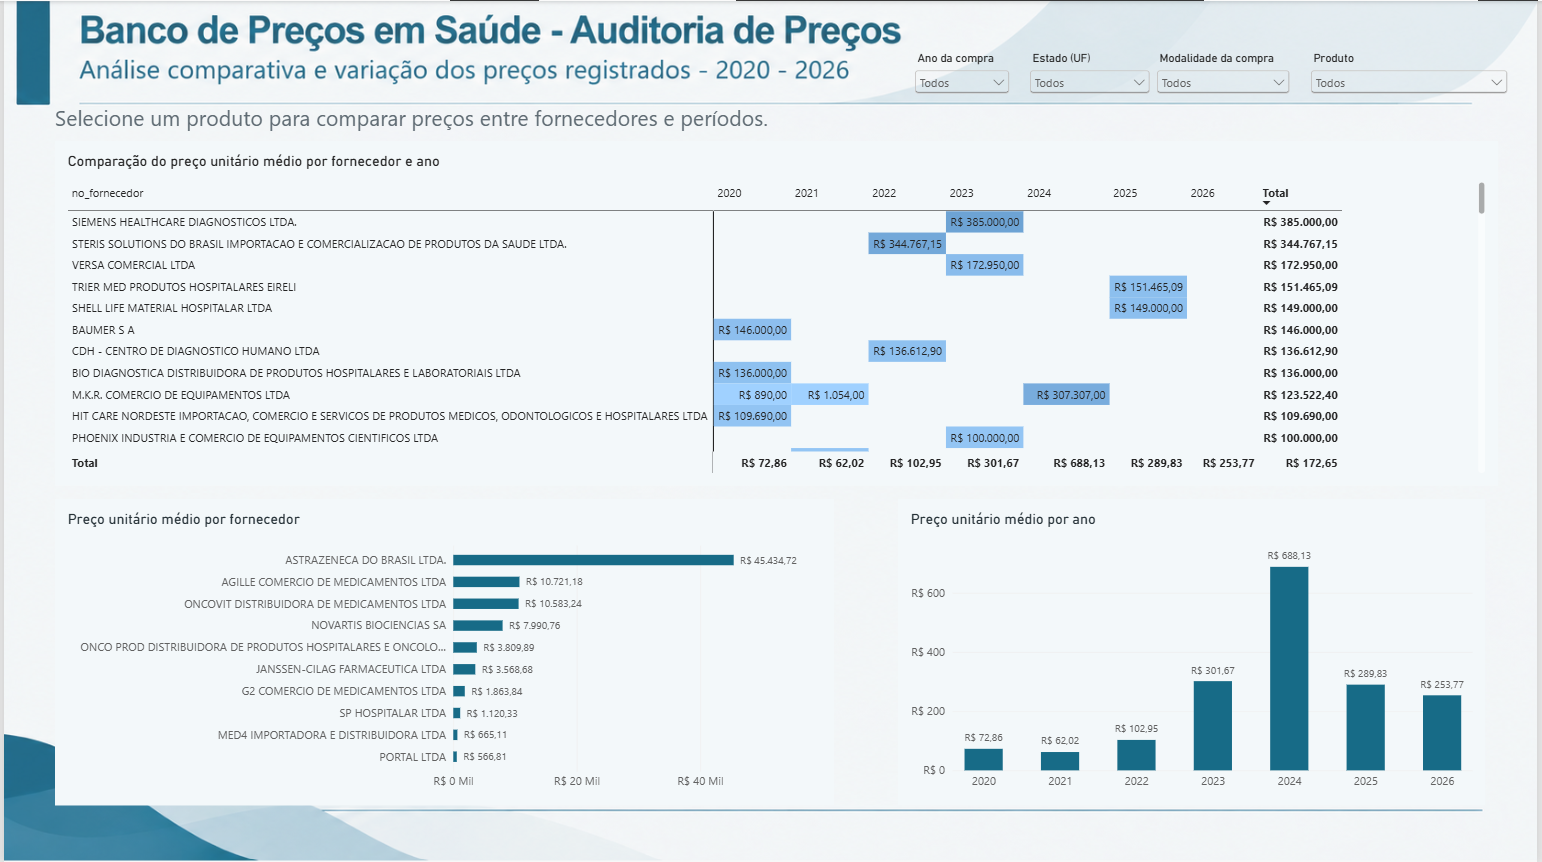

Layout of this report page (visuals, bound fields, positions):
{"tool":"powerbi","page":{"name":"Auditoria de preços","canvas":[1920,1080],"ordinal":2},"visuals":[{"type":"clusteredBarChart","title":"Preço unitário médio por fornecedor","fields":{"Category":["dados.no_fornecedor"],"Y":["dados.Preço Unitário Médio"]},"box":[64,624,976,384],"z":1000},{"type":"slicer","fields":{"Values":["dados.ano_compra"]},"box":[1136,64,128,96],"z":2000},{"type":"slicer","fields":{"Values":["dados.sg_uf"]},"box":[1280,64,160,80],"z":3000},{"type":"slicer","fields":{"Values":["dados.Item Resumido"]},"box":[1632,64,256,144],"z":4000},{"type":"slicer","fields":{"Values":["dados.modalidade"]},"box":[1440,64,176,80],"z":5000},{"type":"columnChart","title":"Preço unitário médio por ano","fields":{"Category":["dados.ano_compra"],"Y":["dados.Preço Unitário Médio"]},"box":[1120,624,736,384],"z":6000},{"type":"pivotTable","title":"Comparação do preço unitário médio por fornecedor e ano","fields":{"Columns":["dados.ano_compra"],"Rows":["dados.no_fornecedor"],"Values":["dados.Preço Unitário Médio"]},"box":[64,176,1808,432],"z":7001},{"type":"textbox","box":[64,128,1072,48],"z":7002}]}

Visuals, with their boxes in screenshot pixels (x1, y1, x2, y2), scaled from the page's 1920x1080 canvas onto the 1542x862 screenshot:
"Preço unitário médio por fornecedor" clusteredBarChart: <box>51,498,835,805</box>
slicer - dados.ano_compra: <box>912,51,1015,128</box>
slicer - dados.sg_uf: <box>1028,51,1156,115</box>
slicer - dados.Item Resumido: <box>1311,51,1516,166</box>
slicer - dados.modalidade: <box>1156,51,1298,115</box>
"Preço unitário médio por ano" columnChart: <box>900,498,1491,805</box>
"Comparação do preço unitário médio por fornecedor e ano" pivotTable: <box>51,140,1503,485</box>
textbox: <box>51,102,912,140</box>
